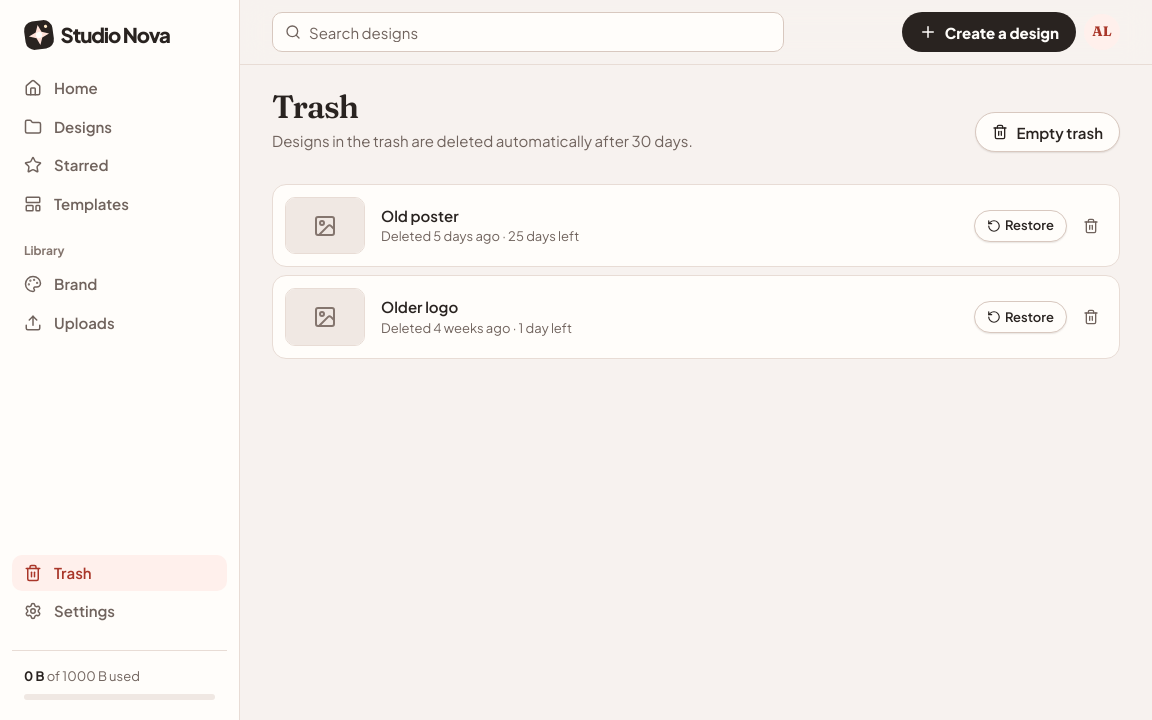
Scenario: trash page › restores a design
Click the button "Restore" in the row of "Old poster" at (1020, 226), box [974,210,1067,242]
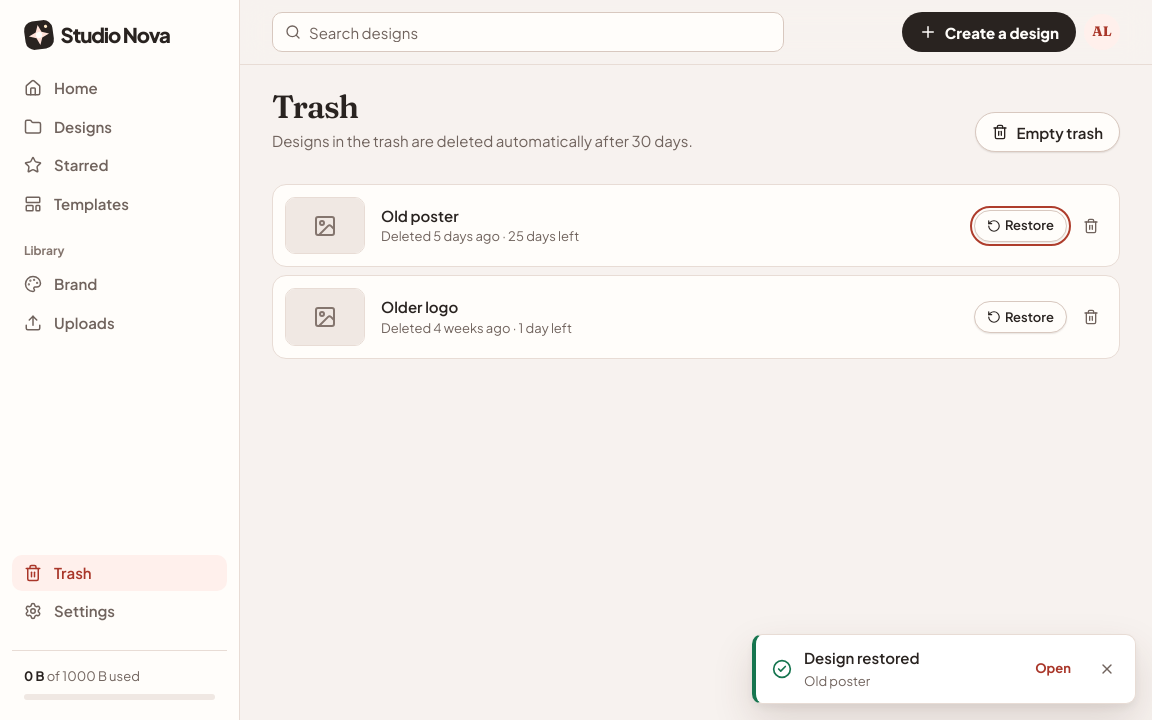
Now the text "Design restored" is shown, box [804,648,920,667]
